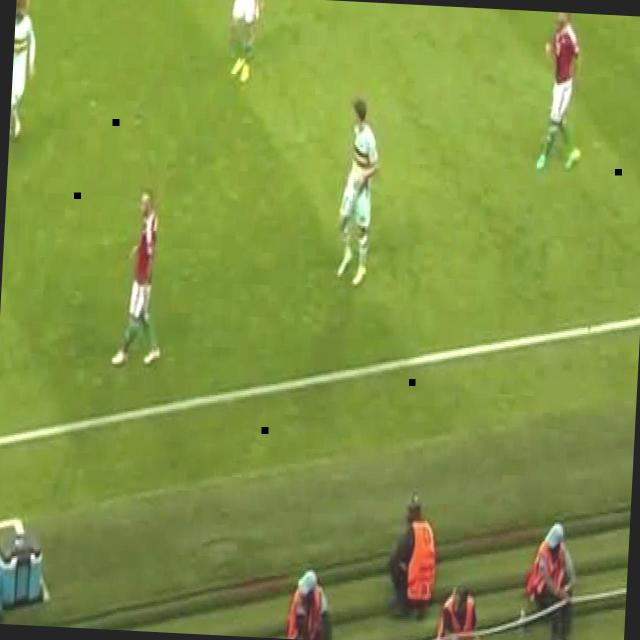player-white: (112, 188, 168, 368), (336, 93, 382, 287), (536, 11, 588, 170), (7, 0, 41, 172), (227, 0, 267, 81)
